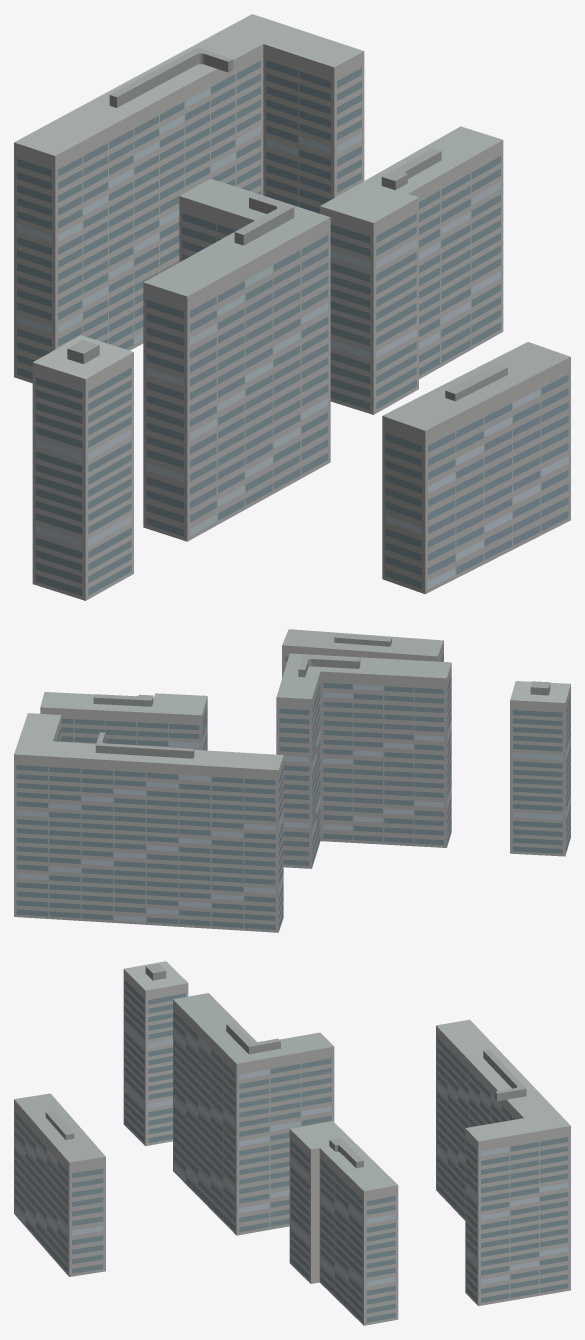
The model's file is apt-a13790910.glb.
3 views of the same model, one above another, from view 1: azimuth 30°, elevation 25°; view 2: azimuth 150°, elevation 25°; view 3: azimuth 270°, elevation 25° (orthographic). The views are drawn at different scales.
Visible parts, largest first — view 1: apt-a13790910; view 2: apt-a13790910; view 3: apt-a13790910.
Boxes of the visible parts, left/top/right/bottom form: apt-a13790910: left=14, top=14, right=570, bottom=600; apt-a13790910: left=14, top=629, right=570, bottom=932; apt-a13790910: left=14, top=961, right=570, bottom=1325.
Size of the model in its own units: 143 by 57.3 by 161.
